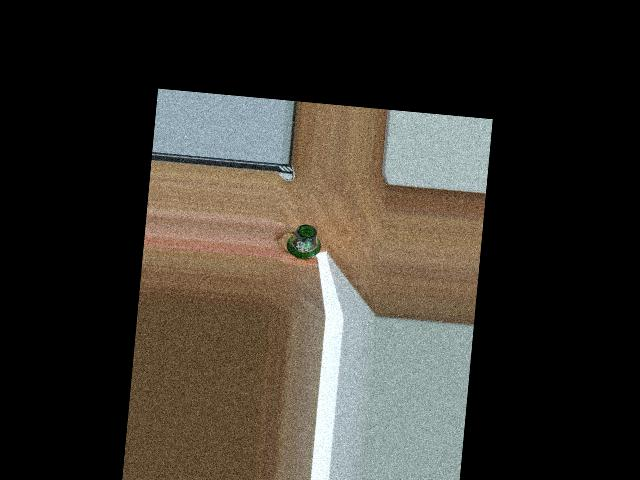beer: (284, 222, 323, 260)
